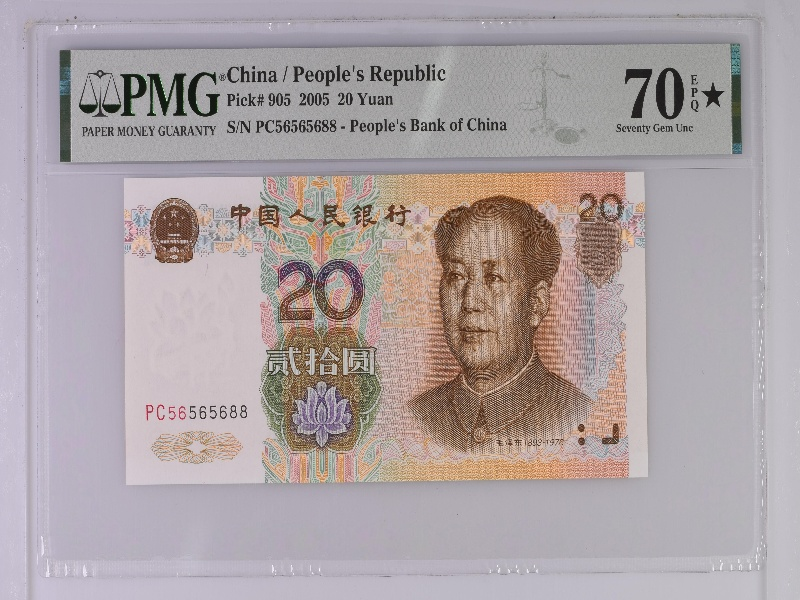papernote: (124, 175, 650, 483)
